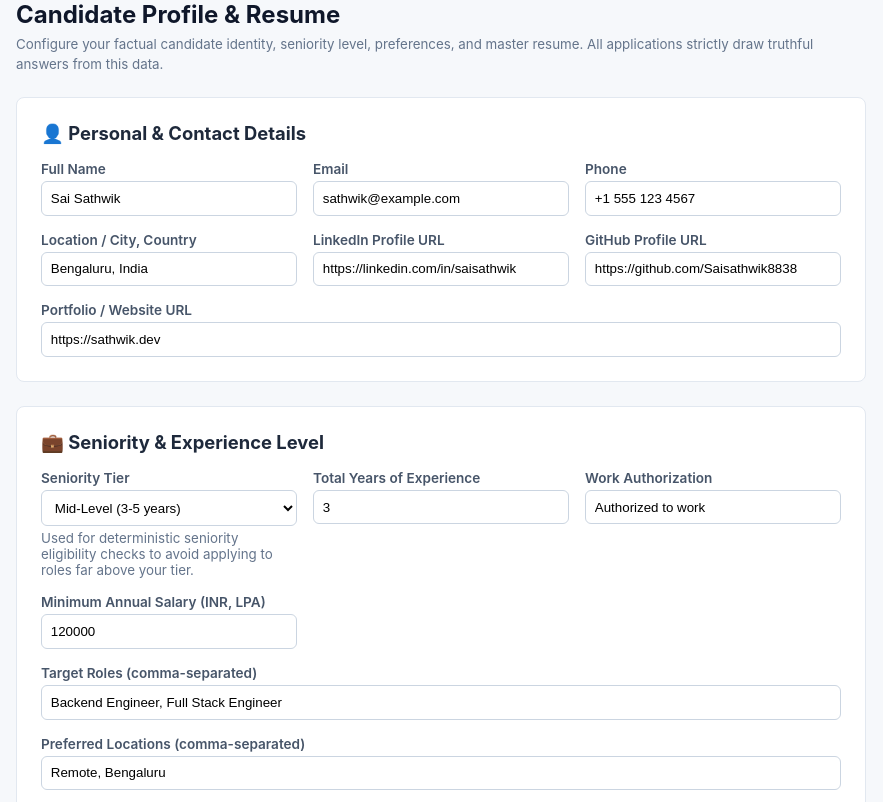
Test: Profile Page Component Tests › submits updated profile and resume to PUT /api/profile
This screenshot has width=883, height=802.
Expected: the field showing "Sai Sathwik" is shown, 41,181 -> 297,216
Replace the text in the number field labelled "Total Years of Experience" with "4". click: (441, 507)
box: 313,490 -> 569,524
(page scrolled)
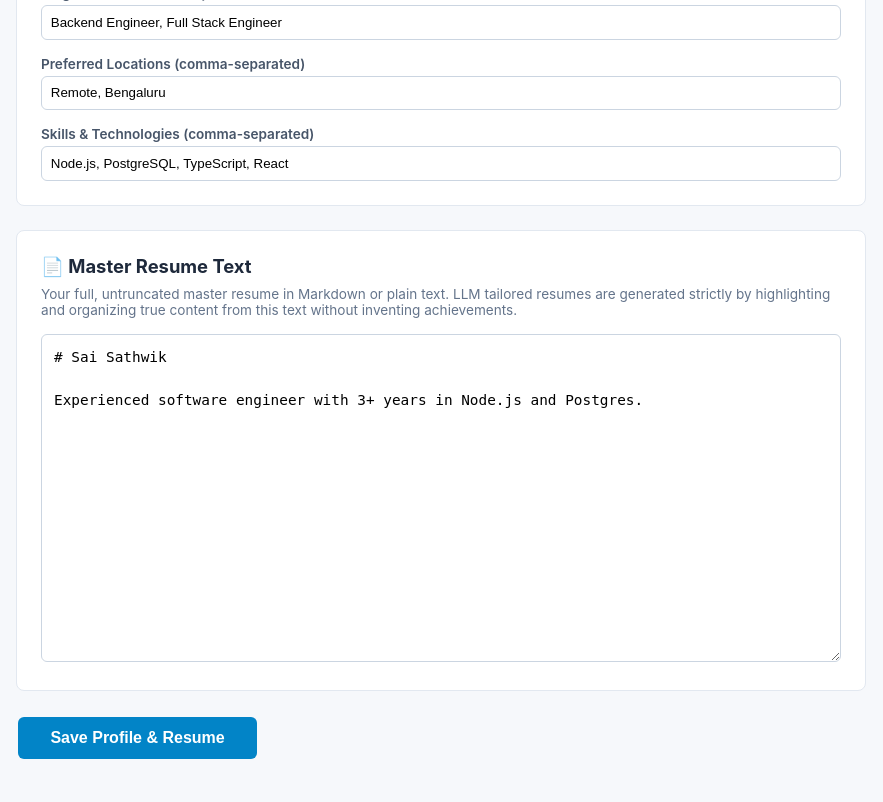
Click the button "Save Profile & Resume". click: (138, 738)
box: 18,717 -> 257,759
(page scrolled)
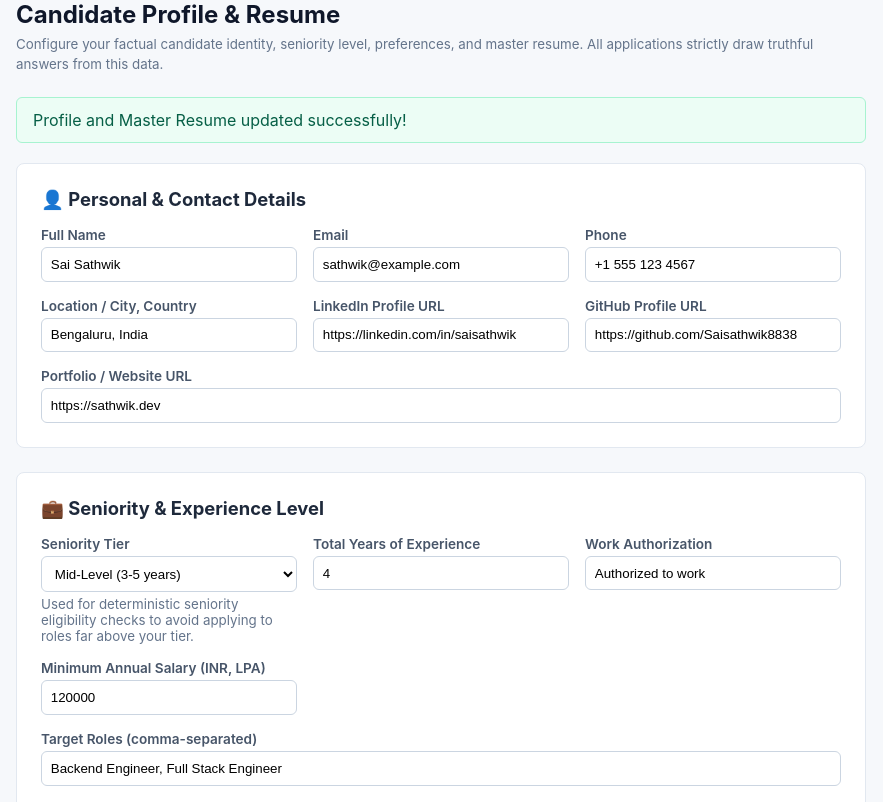
Expected: the text "Profile and Master Resume updated successfully!" is shown, 16,97 -> 866,143
